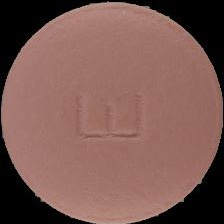58118-0357: (0, 0, 224, 224)
